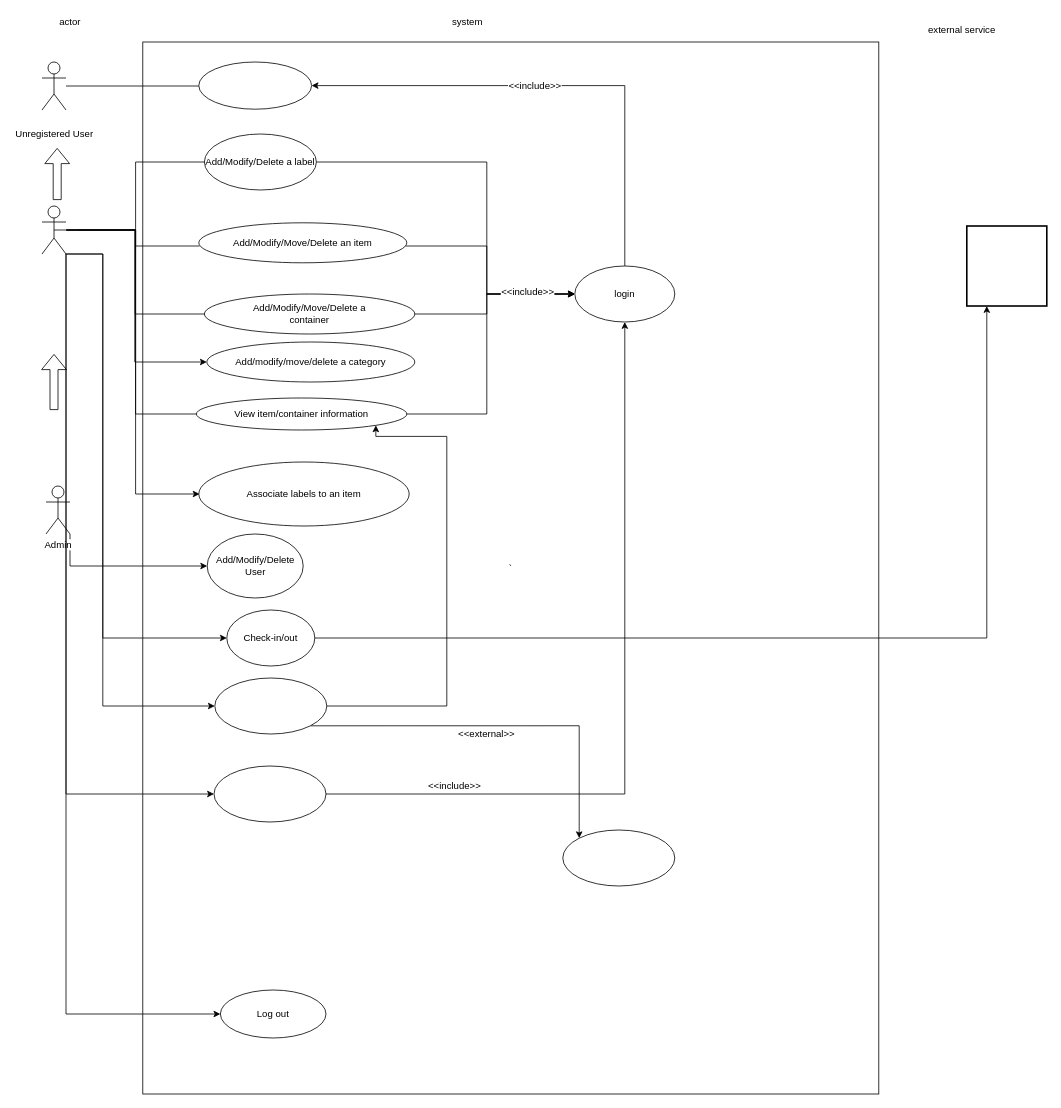
The diagram is 1061 pixels wide and 1108 high, and some of its shapes have lost their labels. Each missing label, with the centre of its shape:
"external database storage" belongs at point 1006,265.
"Report" belongs at point 269,793.
"Search" belongs at point 270,705.
"sign up" belongs at point 255,85.
"Sort items" belongs at point 618,857.
"User" belongs at point 53,229.
